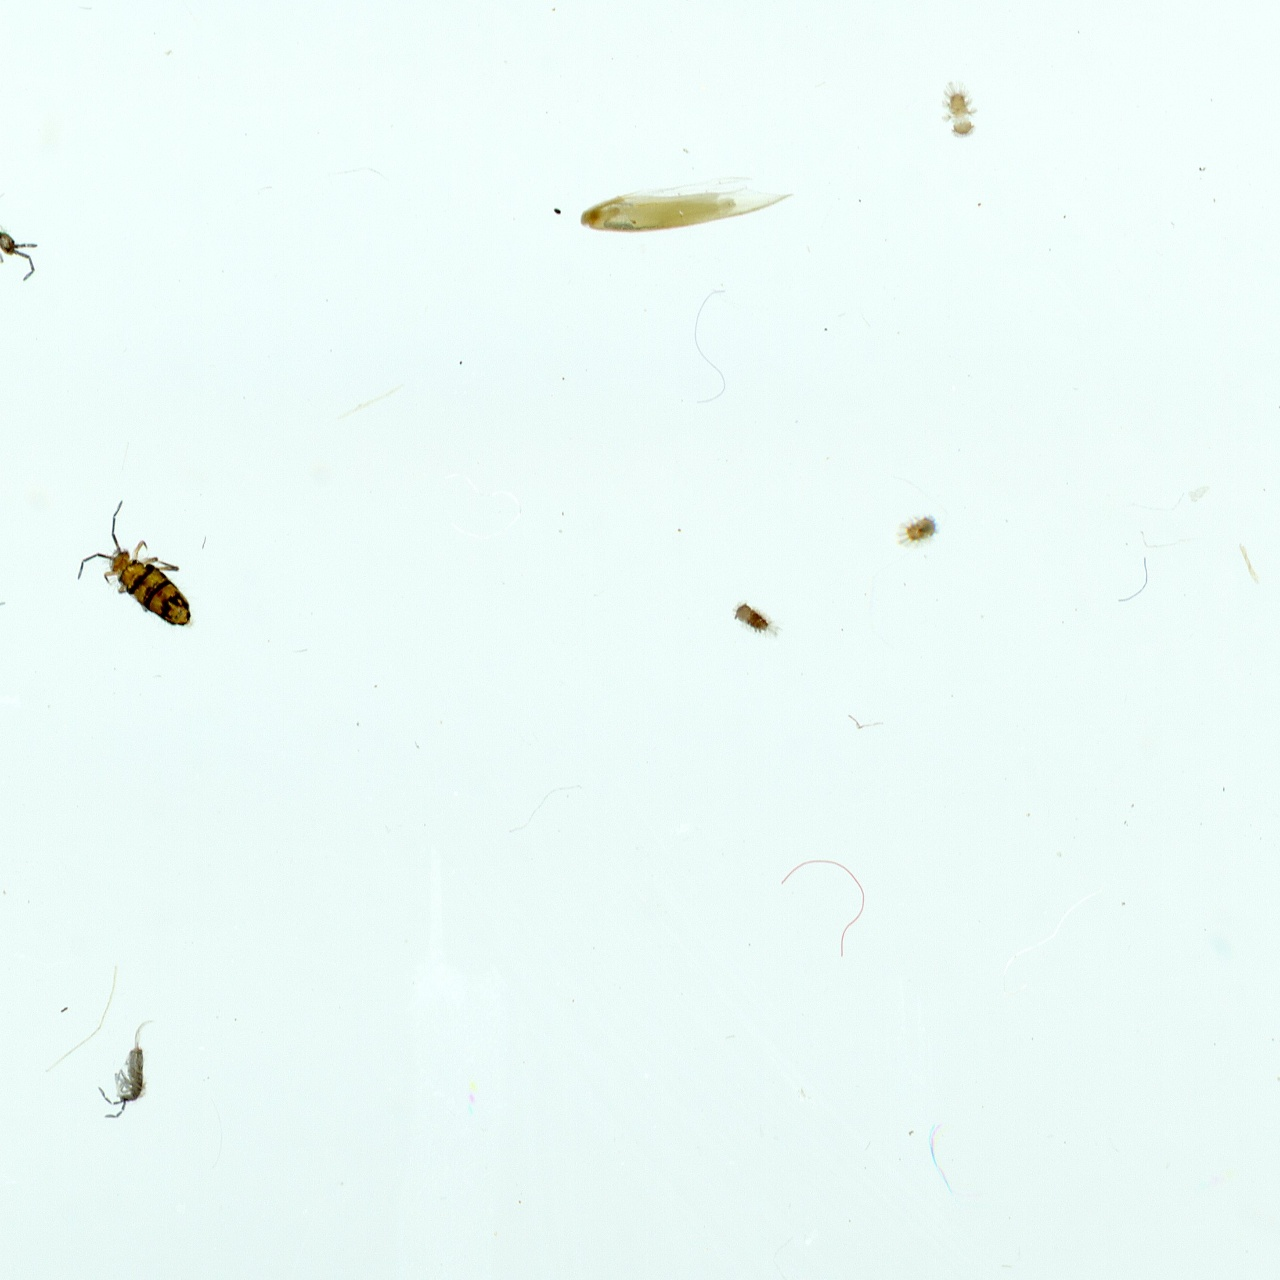arthropod: (79, 498, 199, 627), (99, 1018, 151, 1123), (933, 72, 977, 140), (0, 205, 38, 277), (726, 594, 780, 642), (885, 502, 937, 550)
